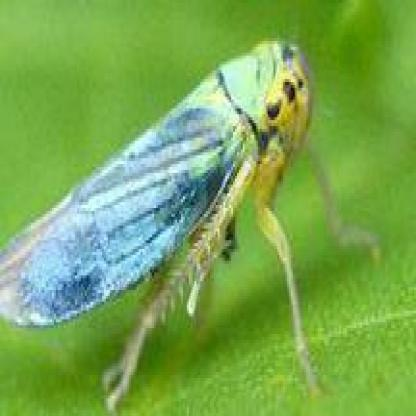Green-Leafhopper: (0, 36, 382, 416)
